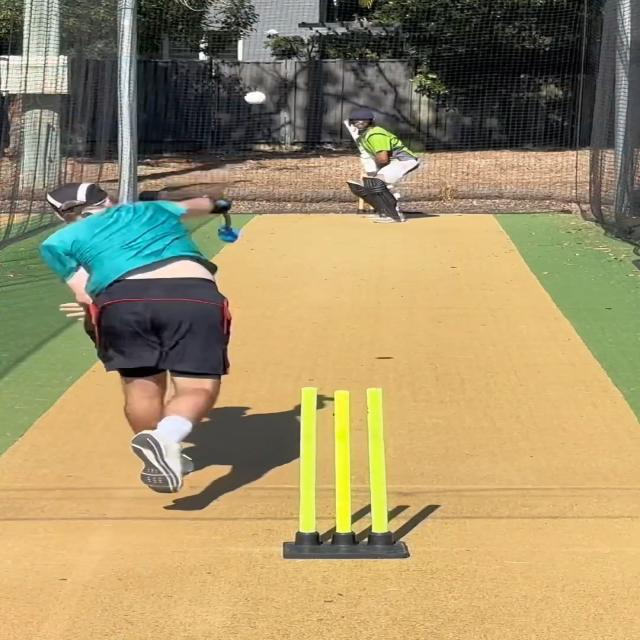ball: (240, 88, 272, 108)
stump: (283, 386, 408, 564)
